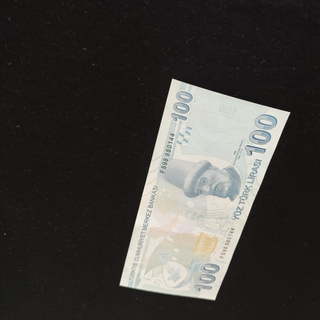100TLBack: (118, 77, 291, 301)
